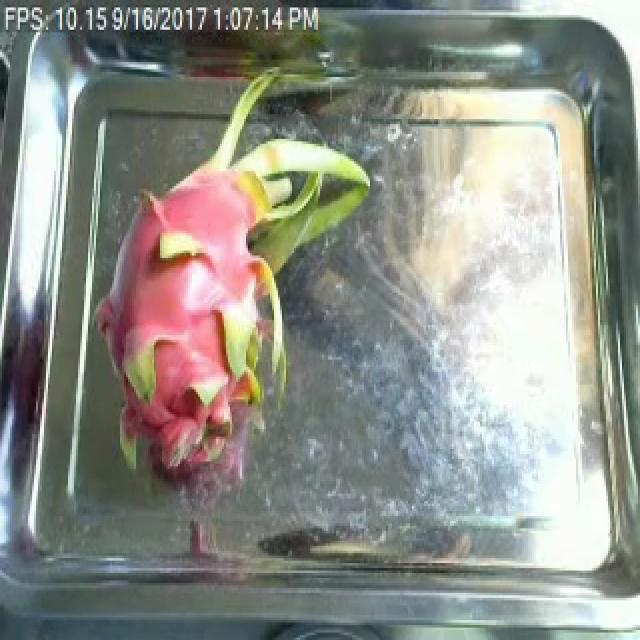fruit: (72, 74, 366, 506)
